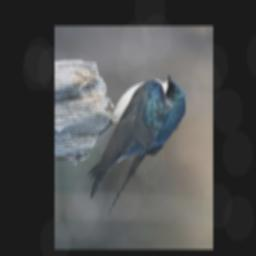Swallow: (83, 74, 191, 215)
